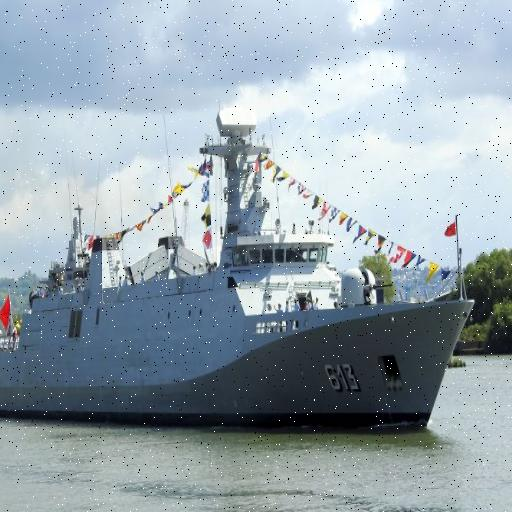Fragata: (1, 101, 481, 429)
